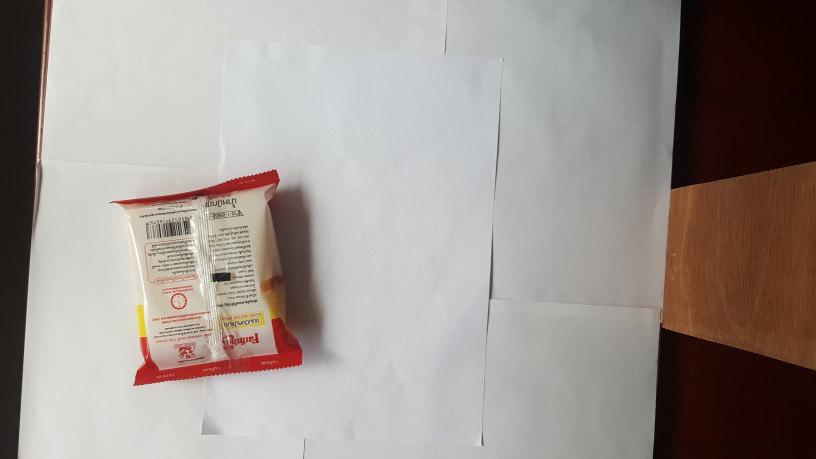farmhouse-bread-butter: (108, 170, 306, 386)
